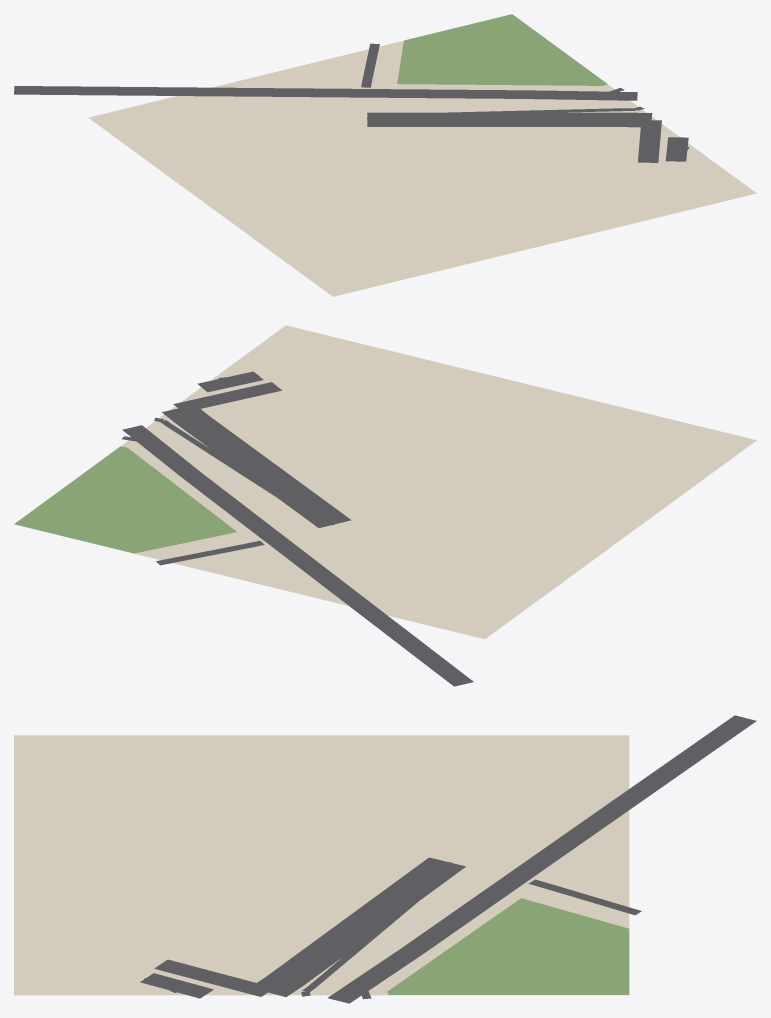
The model's file is tile_-6_-4_far.glb.
The picture shows the model from 3 angles, top to bottom: view 1: azimuth 30°, elevation 25°; view 2: azimuth 150°, elevation 25°; view 3: azimuth 270°, elevation 25°; orthographic projection. The views are drawn at different scales.
Visible parts, largest first — view 1: nature_ground, roads_asphalt, nature_grass; view 2: nature_ground, roads_asphalt, nature_grass; view 3: nature_ground, roads_asphalt, nature_grass.
Boxes of the visible parts, left/top/right/bottom form: nature_ground: left=88, top=40, right=756, bottom=296; roads_asphalt: left=14, top=43, right=689, bottom=162; nature_grass: left=397, top=14, right=607, bottom=85; nature_ground: left=14, top=325, right=756, bottom=639; roads_asphalt: left=122, top=371, right=473, bottom=686; nature_grass: left=14, top=446, right=236, bottom=553; nature_ground: left=14, top=735, right=629, bottom=995; roads_asphalt: left=140, top=715, right=756, bottom=1003; nature_grass: left=387, top=898, right=629, bottom=994.
Bounding box in the file's own units: 277 × 0.12 × 302.
